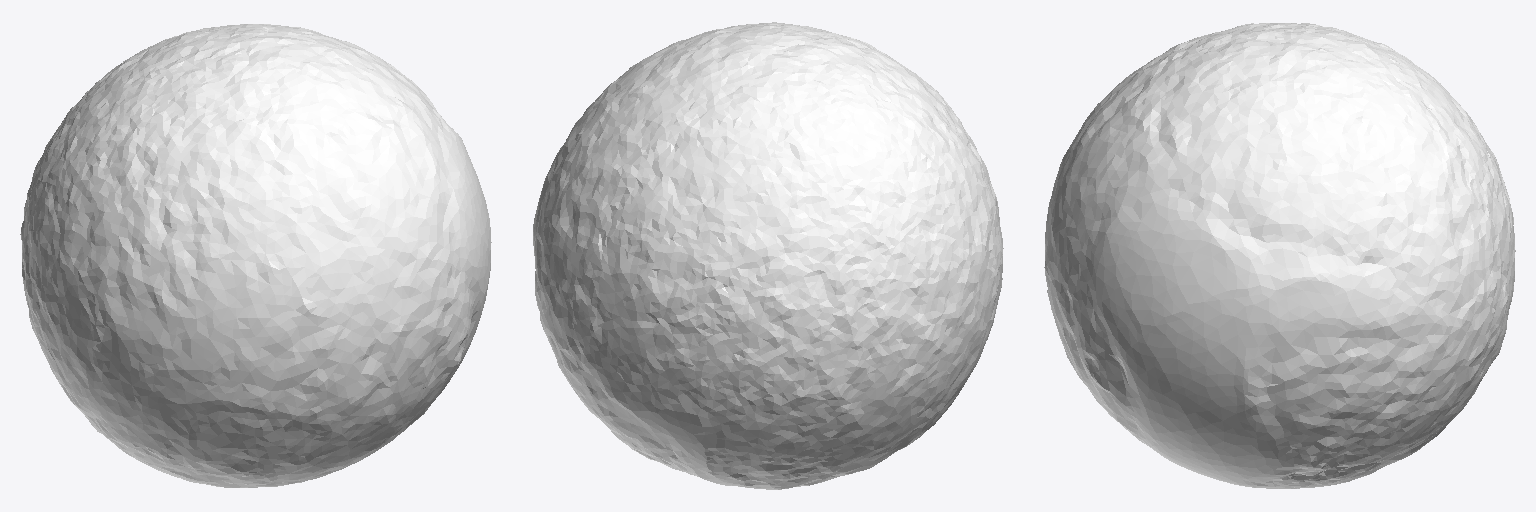
robot.urdf — b_marbles:
<robot name="b_marbles">
    <link name="base_link">
        <visual>
            <origin xyz="0.0 -0.0 -0.0" rpy="0.0 0.0 0.0" />
            <geometry>
                <mesh filename="b_marbles/textured.obj" scale="1 1 1" />
            </geometry>
            <material name="texture">
                <color rgba="1.0 1.0 1.0 1.0" />
            </material>
        </visual>
        <collision>
            <origin xyz="0.0 -0.0 -0.0" rpy="0.0 0.0 0.0" />
            <geometry>
                <mesh filename="b_marbles/textured_coacd_0.stl" scale="1 1 1" />
            </geometry>
        </collision>
        <inertial>
            <mass value="0.001" />
            <inertia ixx="1e-3" ixy="0.0" ixz="0.0" iyy="1e-3" iyz="0.0" izz="1e-3" />
        </inertial>
    </link>
</robot>

--- Facts derived from the render (not from the file) ---
The picture shows the robot from 3 angles, left to right: view 1: azimuth 30°, elevation 25°; view 2: azimuth 150°, elevation 25°; view 3: azimuth 270°, elevation 25°; orthographic projection.
Model b_marbles with 1 links and 0 joints (none), rooted at base_link, posed every joint at zero.
Visible links, largest first — view 1: base_link; view 2: base_link; view 3: base_link.
Boxes of the visible links, box(x1,y1,x2,y2) form: base_link: box(20, 24, 491, 487); base_link: box(533, 22, 1003, 489); base_link: box(1044, 23, 1515, 488).
Size in the robot's own frame: 0.0347 by 0.0348 by 0.0344 metres.
Meshes: 1 distinct files referenced, 1 mesh visuals loaded (1 OBJ).